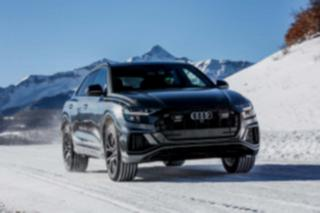Audi: (187, 108, 217, 123)
